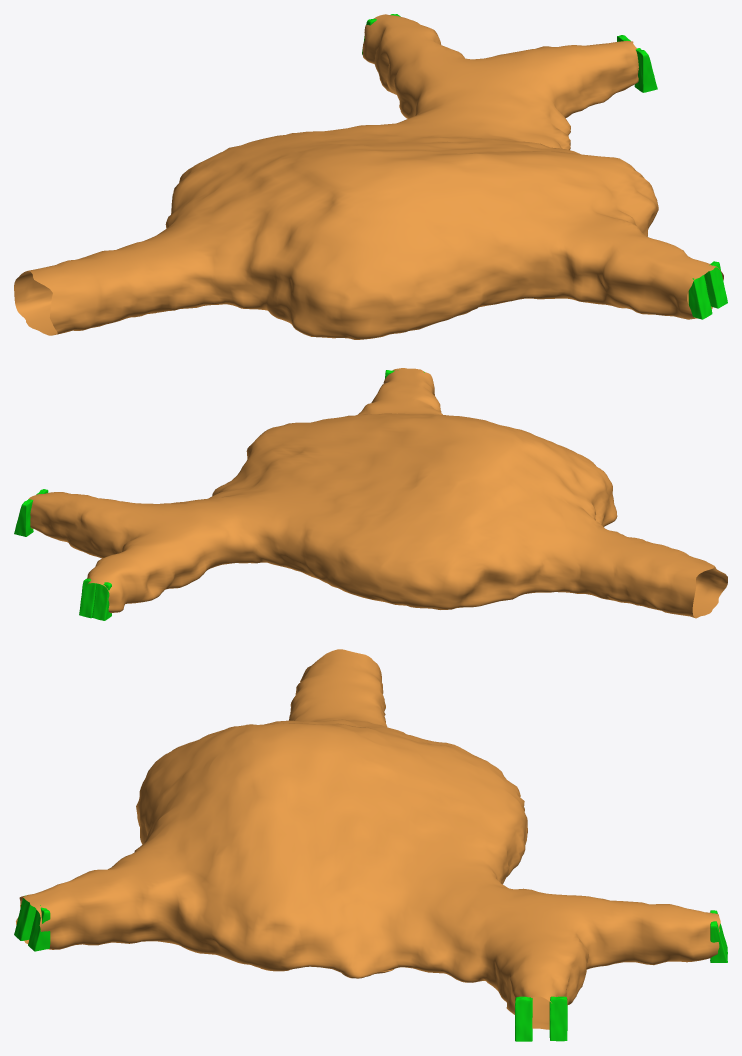
Rendered from Outer_1.fbx.
3 views of the same model, one above another, from view 1: azimuth 30°, elevation 25°; view 2: azimuth 150°, elevation 25°; view 3: azimuth 270°, elevation 25° (orthographic). The views are drawn at different scales.
Parts seen in each view (by area): view 1: Outmap_1, Door 1.001, Door 1; view 2: Outmap_1, Door2, Door 1; view 3: Outmap_1, Door 1, Door 1.001.
Boxes of the visible parts, x1,y1,x2,y2 form: Outmap_1: (14,14,723,339); Door 1.001: (688,261,727,319); Door 1: (617,35,657,92); Outmap_1: (28,368,727,618); Door2: (79,578,111,620); Door 1: (14,489,48,536); Outmap_1: (16,649,720,1029); Door 1: (515,996,567,1041); Door 1.001: (14,895,50,951).
Bounding box in the file's own units: 23878 × 3643 × 20903.
